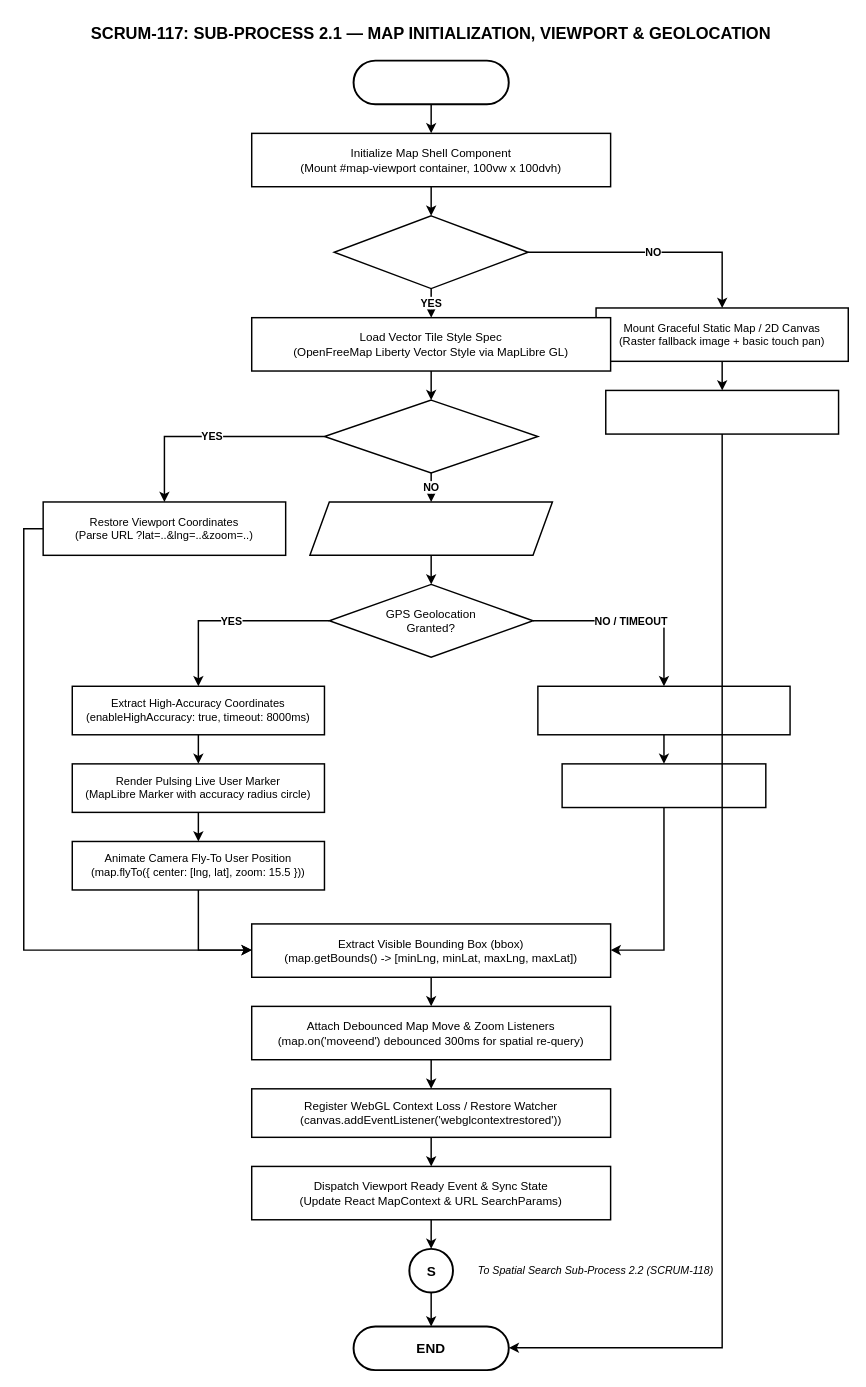
Image size: 866x1387. Some labels were removed from this diagram. The centre of each missing label's shape, as x and y in pixels:
Display Centroid Toast Notice ("Positioned at Metro Cebu Hub"): (x=663, y=785)
Display Compatibility Warning Toast ("Hardware acceleration disabled"): (x=722, y=411)
Fallback to Metro Cebu Centroid (Fuente Osmeña [10.3157, 123.8854], zoom 13.0): (x=663, y=710)
Request Browser Geolocation (navigator.geolocation.getCurrentPosition): (x=431, y=528)
START: (x=430, y=82)
Stored Viewport in URL / Session?: (x=430, y=436)
WebGL Canvas Supported?: (x=430, y=252)
